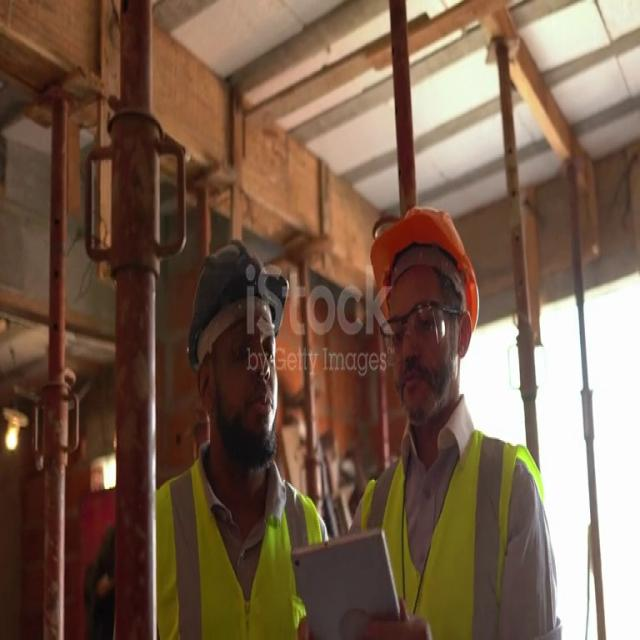capacete: (356, 200, 492, 358), (172, 236, 294, 378)
